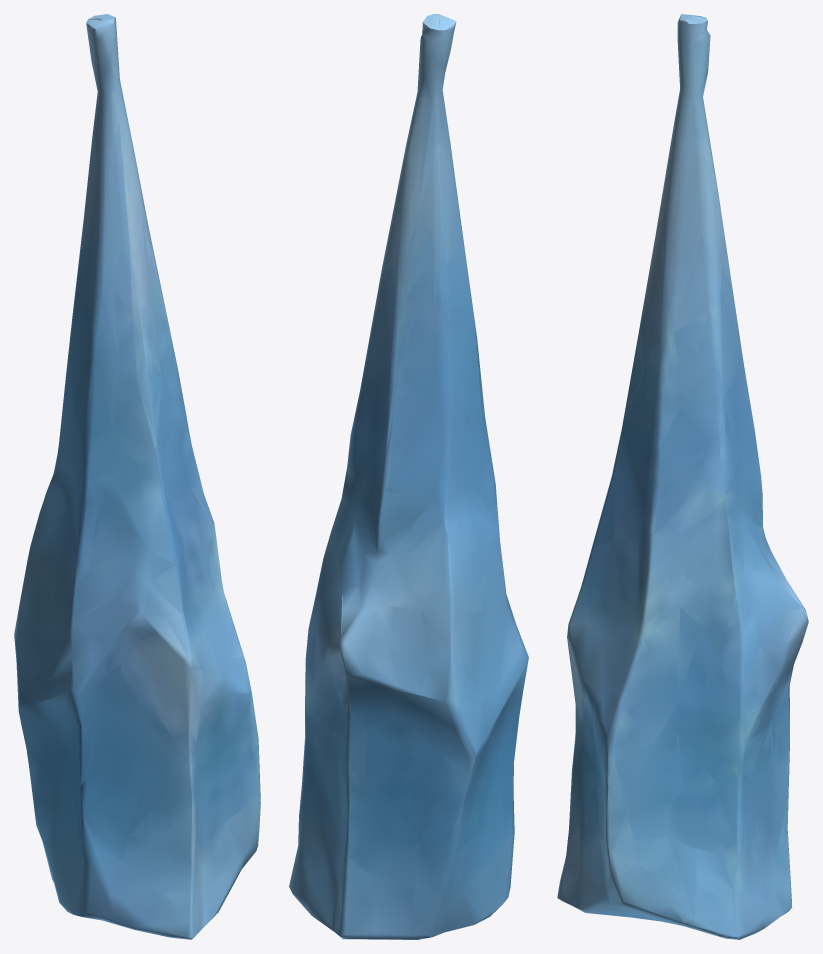
The model's file is pincho_escarcha_1_1200.glb.
3 views of the same model, side by side, from view 1: azimuth 30°, elevation 25°; view 2: azimuth 150°, elevation 25°; view 3: azimuth 270°, elevation 25° (orthographic). The views are drawn at different scales.
Visible parts, largest first — view 1: pincho_escarcha_1_malla; view 2: pincho_escarcha_1_malla; view 3: pincho_escarcha_1_malla.
Part boxes in pixels (x1,y1,x2,y2): pincho_escarcha_1_malla: [14, 14, 260, 939]; pincho_escarcha_1_malla: [289, 14, 528, 939]; pincho_escarcha_1_malla: [557, 14, 808, 939].
Size of the model in its own units: 0.0384 by 0.1705 by 0.0444.
1 material, 1 textured.
